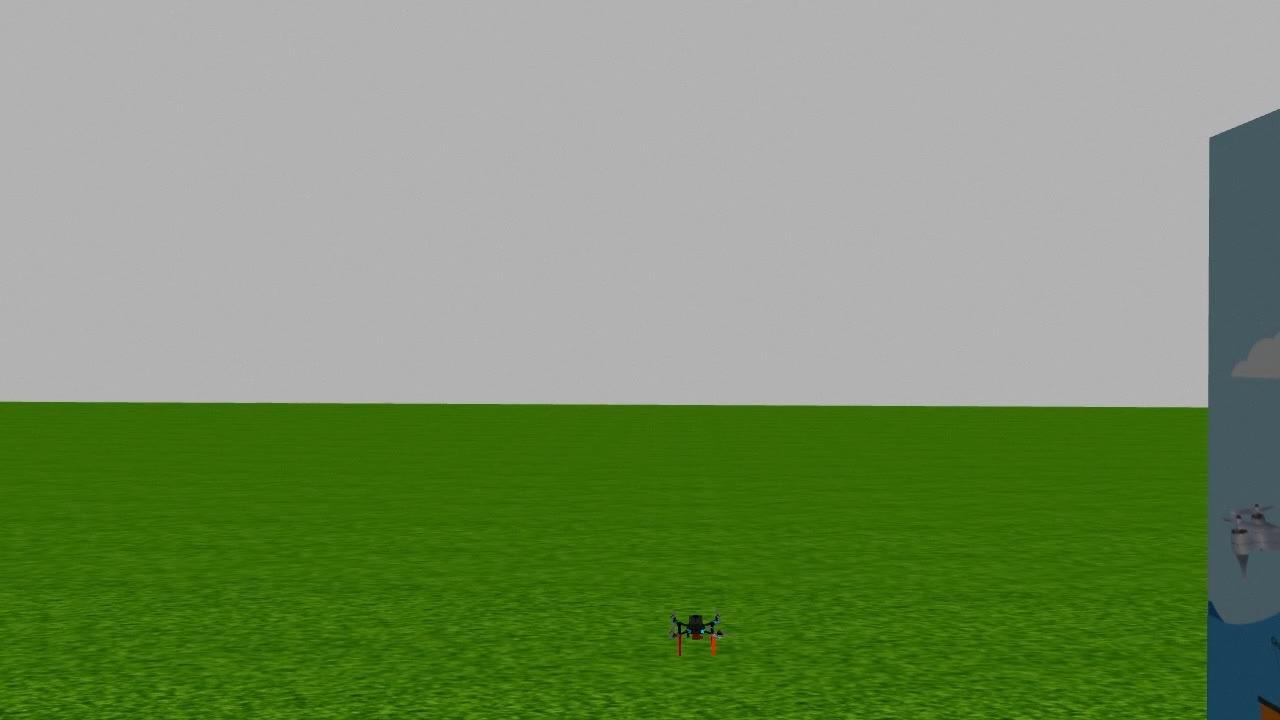UAV: (652, 604, 742, 664)
